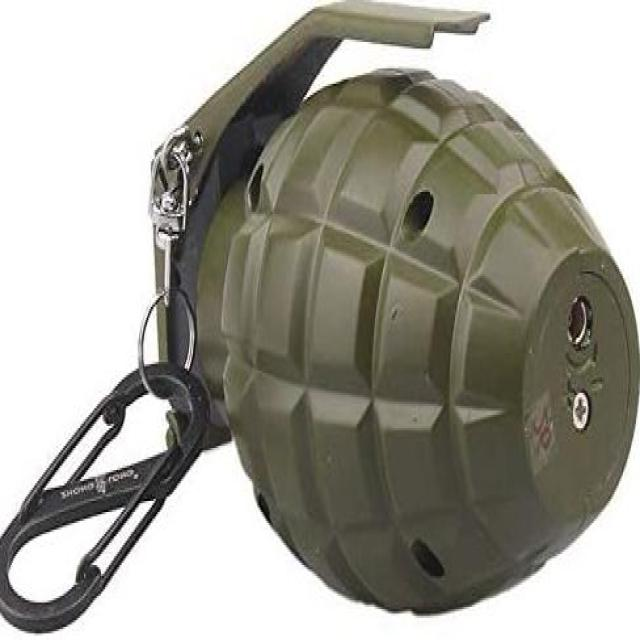grenade: (148, 1, 640, 621)
